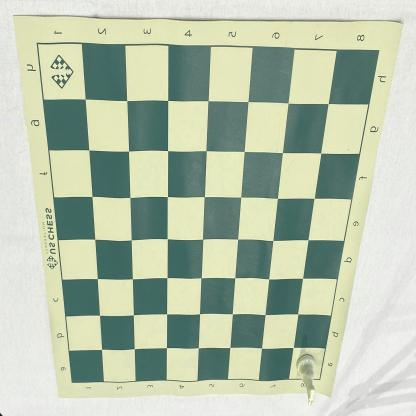white-knight: (295, 353, 317, 406)
